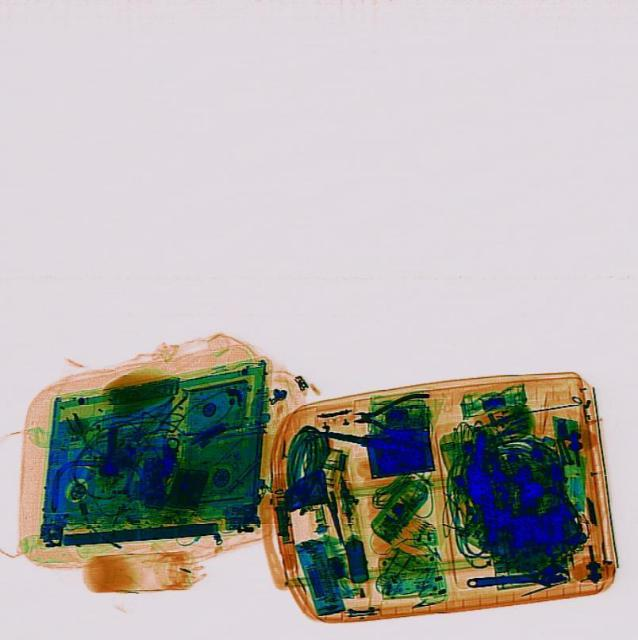Pliers: (350, 391, 429, 437)
Wrench: (465, 558, 570, 594)
